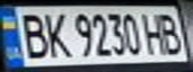0: (121, 10, 145, 56)
2: (90, 9, 109, 57)
3: (106, 10, 127, 56)
9: (69, 9, 93, 58)
B: (12, 9, 51, 61), (154, 9, 187, 56)
H: (139, 10, 169, 55)
K: (39, 9, 72, 60)
